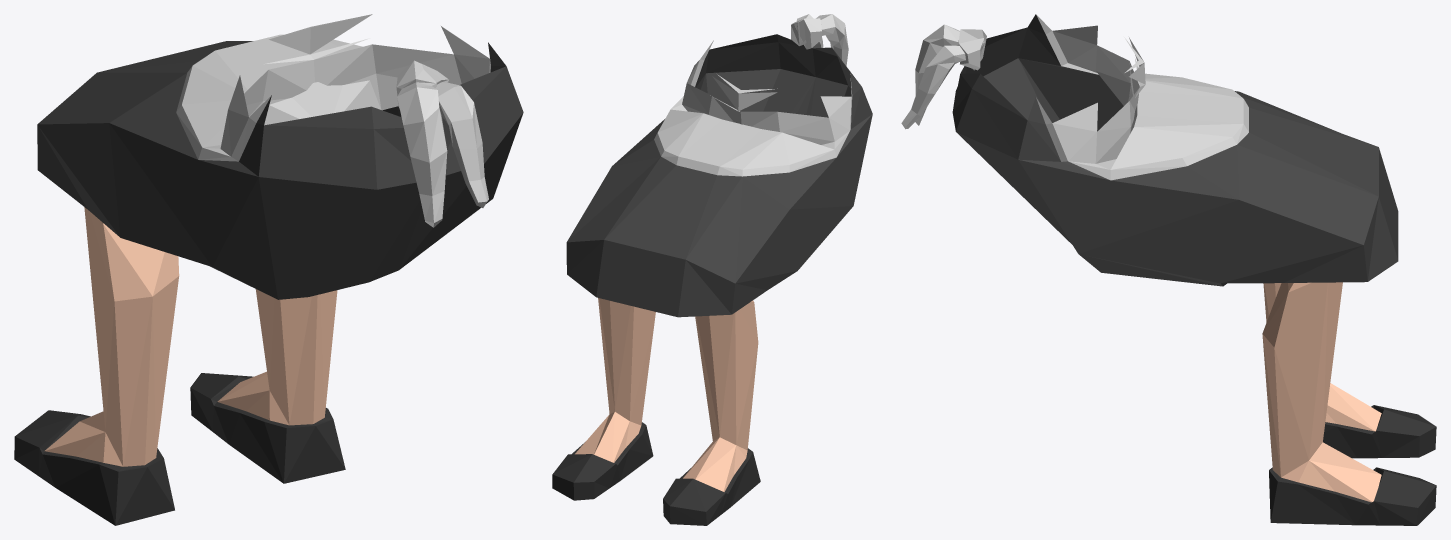
The model's file is Mother_01_Legs_79_04_A.obj.
3 renders of one model, left to right at view 1: azimuth 30°, elevation 25°; view 2: azimuth 150°, elevation 25°; view 3: azimuth 270°, elevation 25°, orthographic. The views are drawn at different scales.
Parts seen in each view (by area): view 1: Mother_01_Legs_79_04_A; view 2: Mother_01_Legs_79_04_A; view 3: Mother_01_Legs_79_04_A.
Part boxes in pixels (<box>): Mother_01_Legs_79_04_A: <box>14,14,523,525</box>; Mother_01_Legs_79_04_A: <box>552,14,872,525</box>; Mother_01_Legs_79_04_A: <box>901,14,1436,525</box>.
Size of the model in its own units: 0.3876 by 0.7464 by 0.8059.
1 material, 1 textured.
